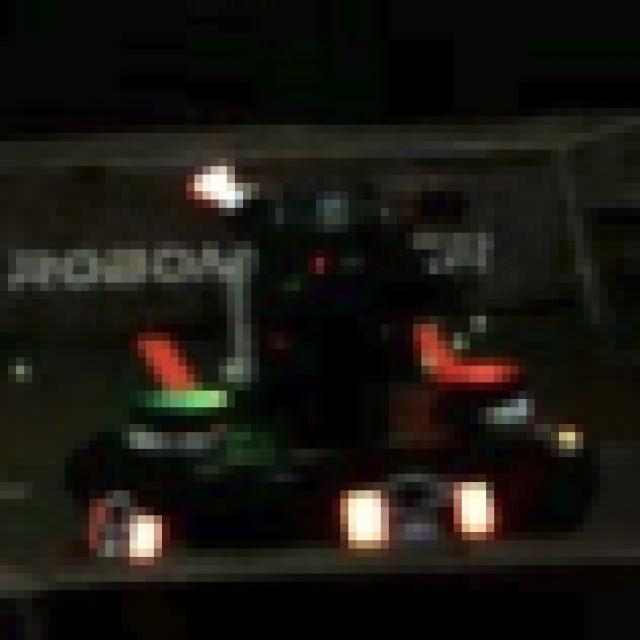Rs: (332, 474, 510, 548)
